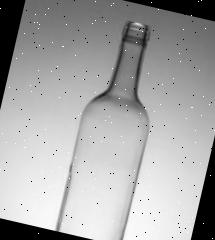glass: (53, 14, 174, 240)
